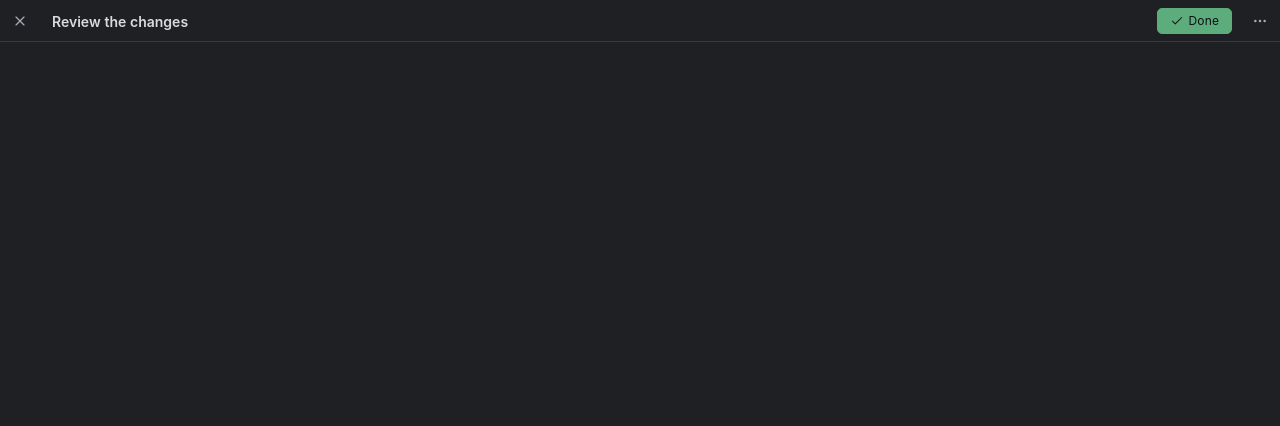
Test: opens task actions from the header menu and completes the selected task
Click the button named "More (actions for this task)" at (1260, 21), box [1248,9,1272,33]
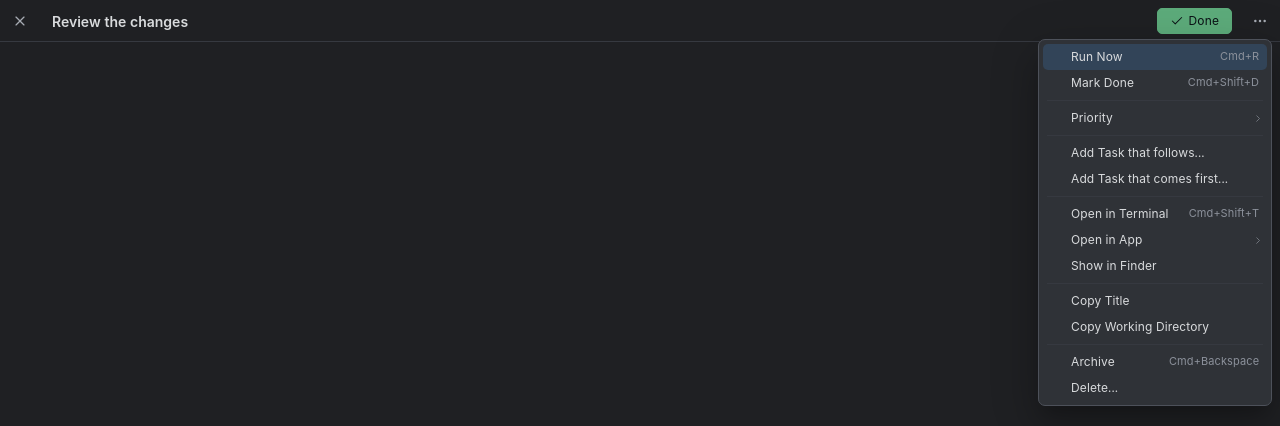
Click the menu item "Mark Done Cmd+Shift+D" at (1155, 83), box [1043,70,1267,96]
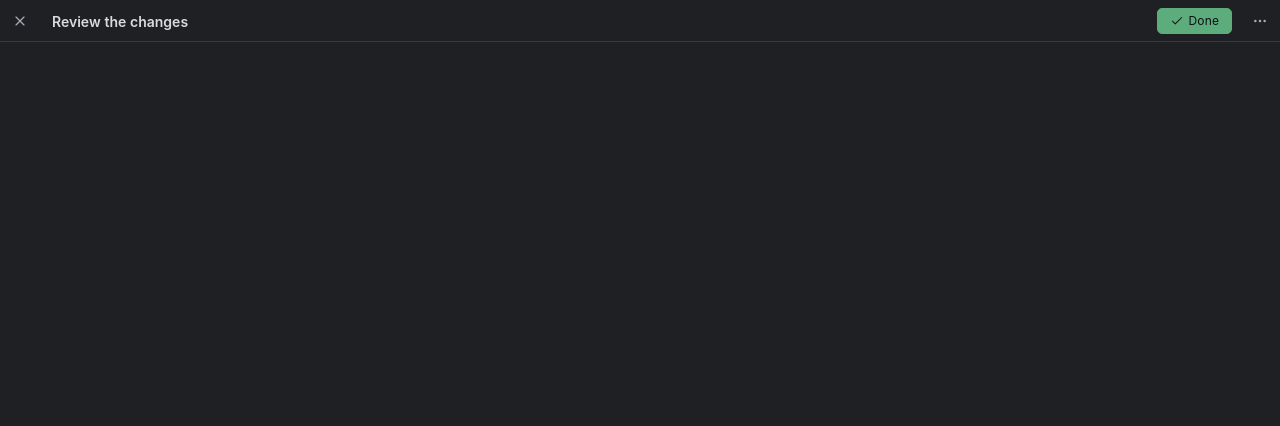
Result: the menu is gone
